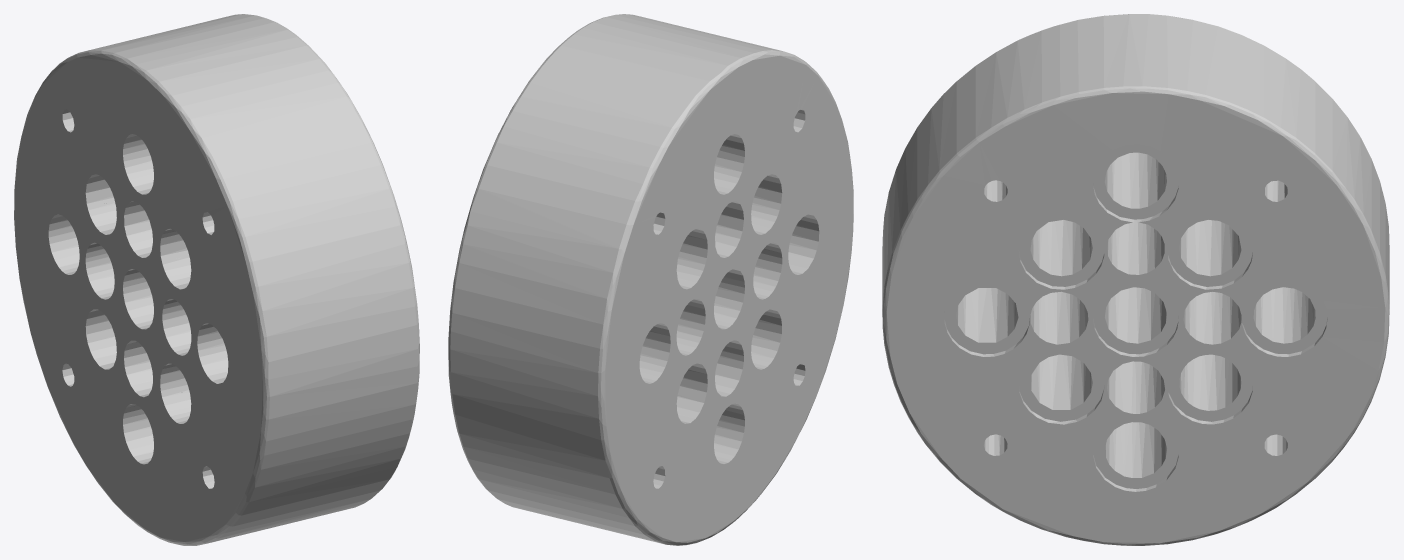
The picture shows the model from 3 angles, left to right: view 1: azimuth 30°, elevation 25°; view 2: azimuth 150°, elevation 25°; view 3: azimuth 270°, elevation 25°; orthographic projection.
Parts seen in each view (by area): view 1: node; view 2: node; view 3: node.
Part boxes in pixels (x1,y1,x2,y2): node: [14, 14, 419, 545]; node: [448, 14, 853, 545]; node: [882, 14, 1389, 545].
Size of the model in its own units: 0.0137 by 0.0384 by 0.0384.
1 material, 1 textured.
